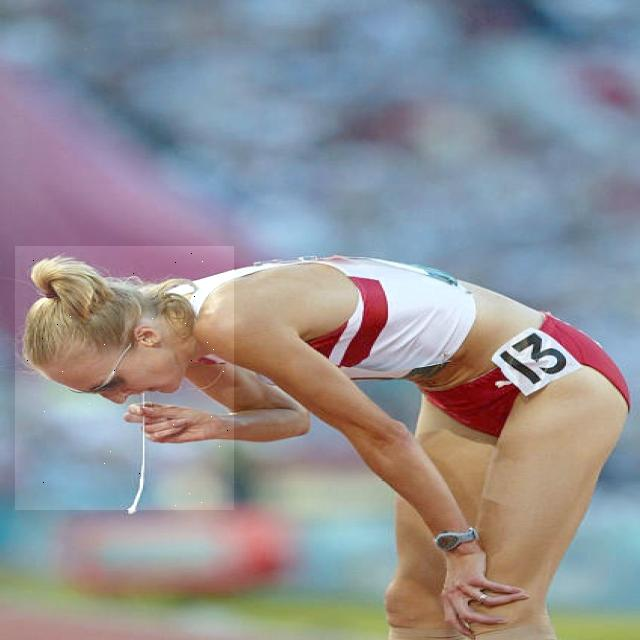Spitting: (16, 246, 236, 510)
